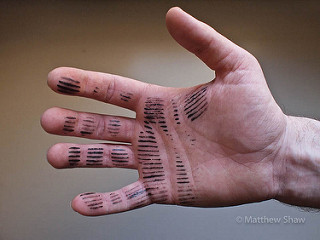palm: (140, 85, 277, 200)
